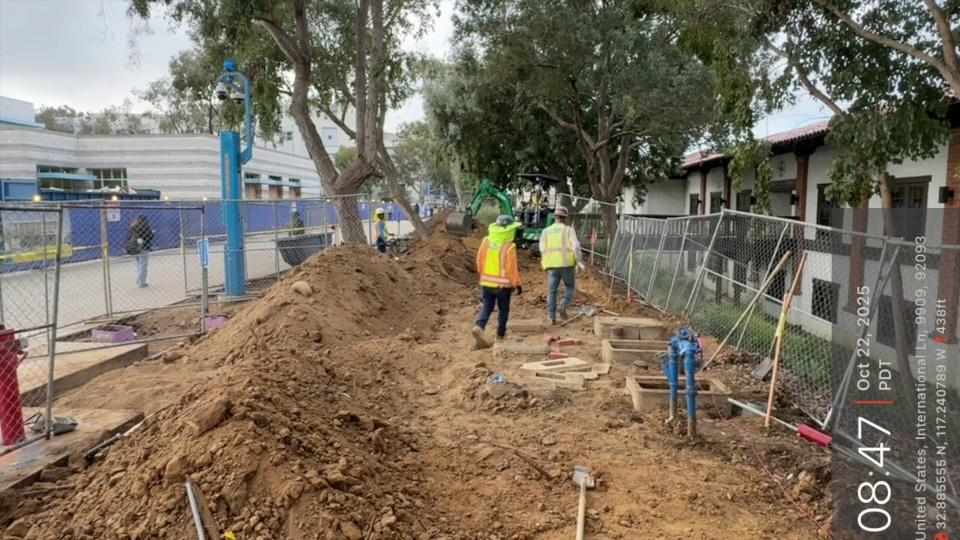Exacavator: (444, 171, 564, 253)
